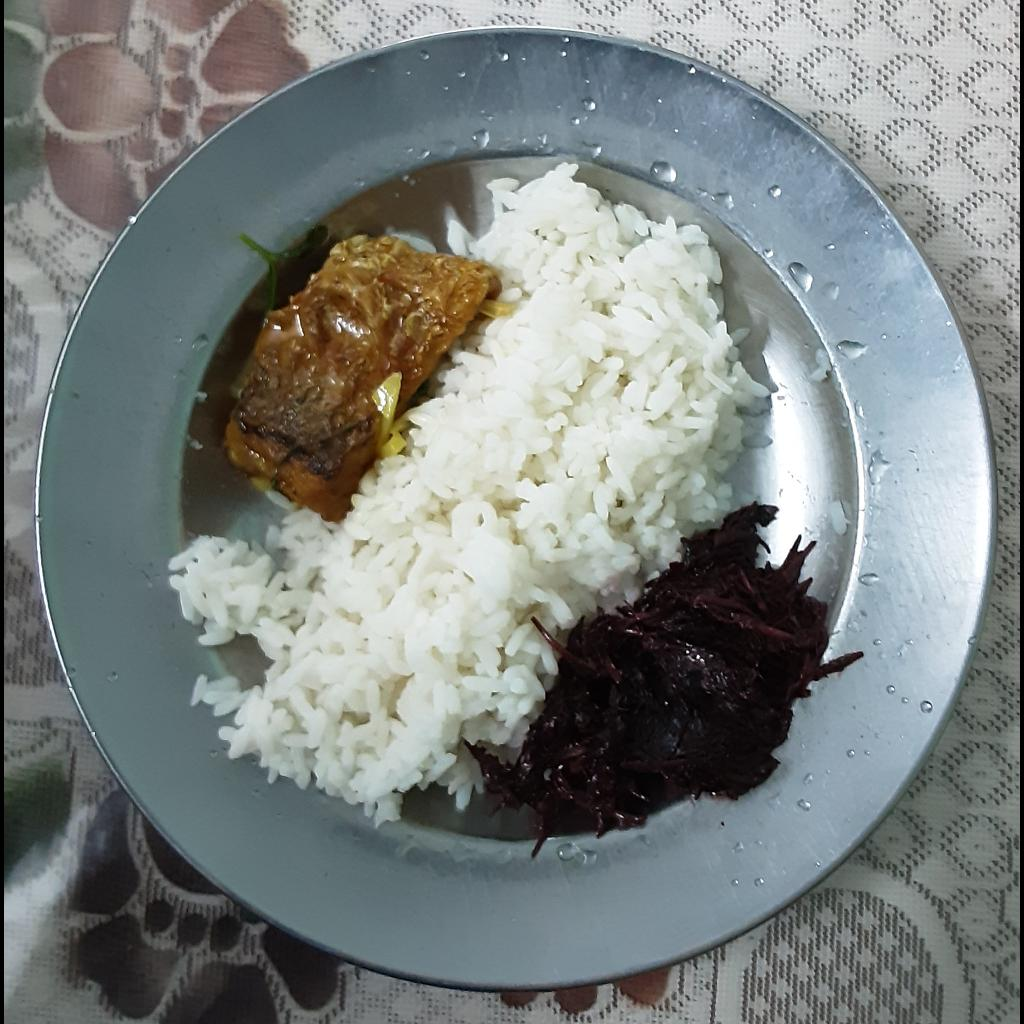fish: (217, 226, 504, 525)
lal-shak: (470, 494, 862, 863)
rice: (170, 157, 779, 828)
